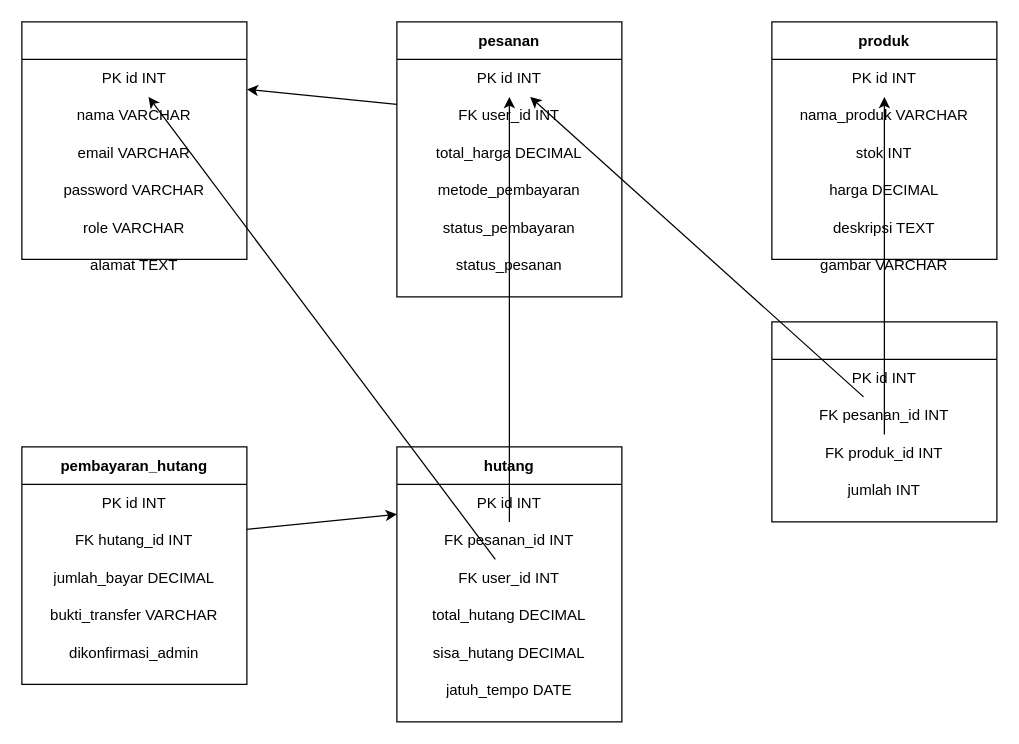
Image size: 1019x744. Some labels were removed from this diagram. The shapes that lost their labels are listed below. From the top down, each one's box as (x1, y1, x2, y2) in pixels, then its label:
(21, 21, 247, 259): users
(771, 321, 997, 522): detail_pesanan
